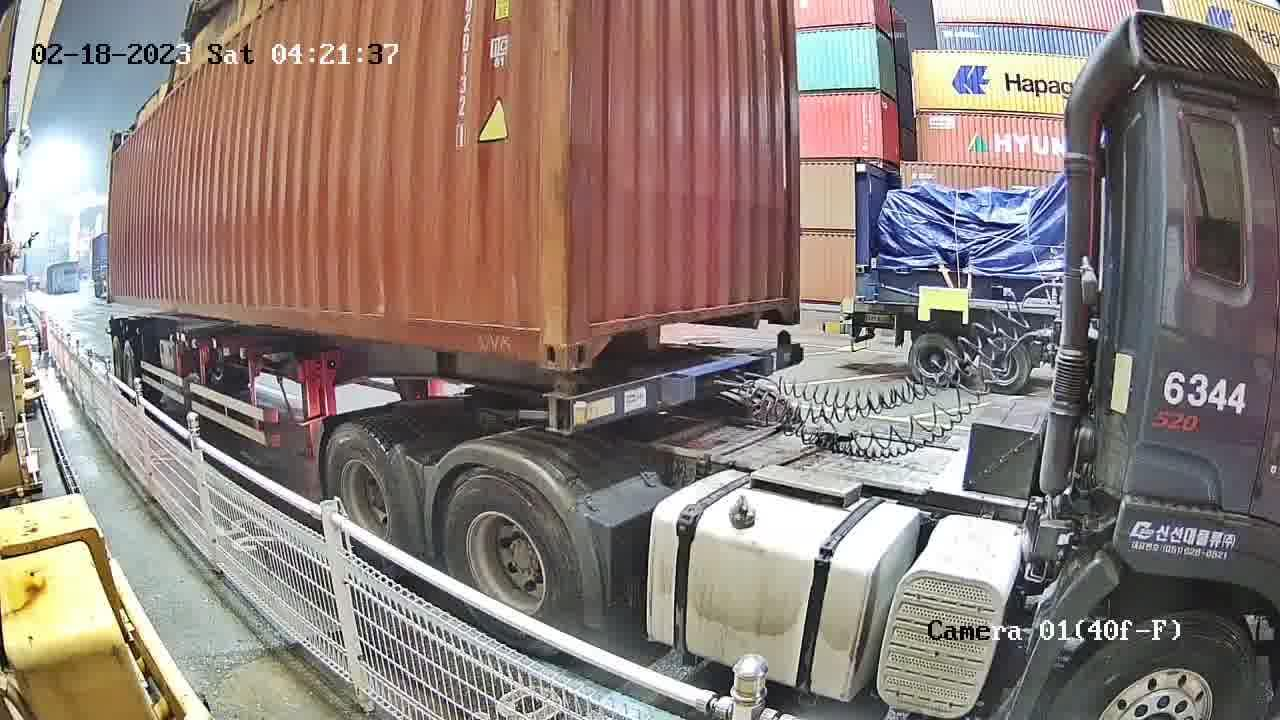Chassis: (546, 343, 801, 432)
Cone: (541, 380, 575, 436), (770, 332, 796, 348)
Hole_L: (566, 314, 618, 372)
Hole_R: (514, 307, 568, 371), (762, 278, 803, 329)
Tire: (449, 471, 575, 645), (329, 428, 410, 562)
